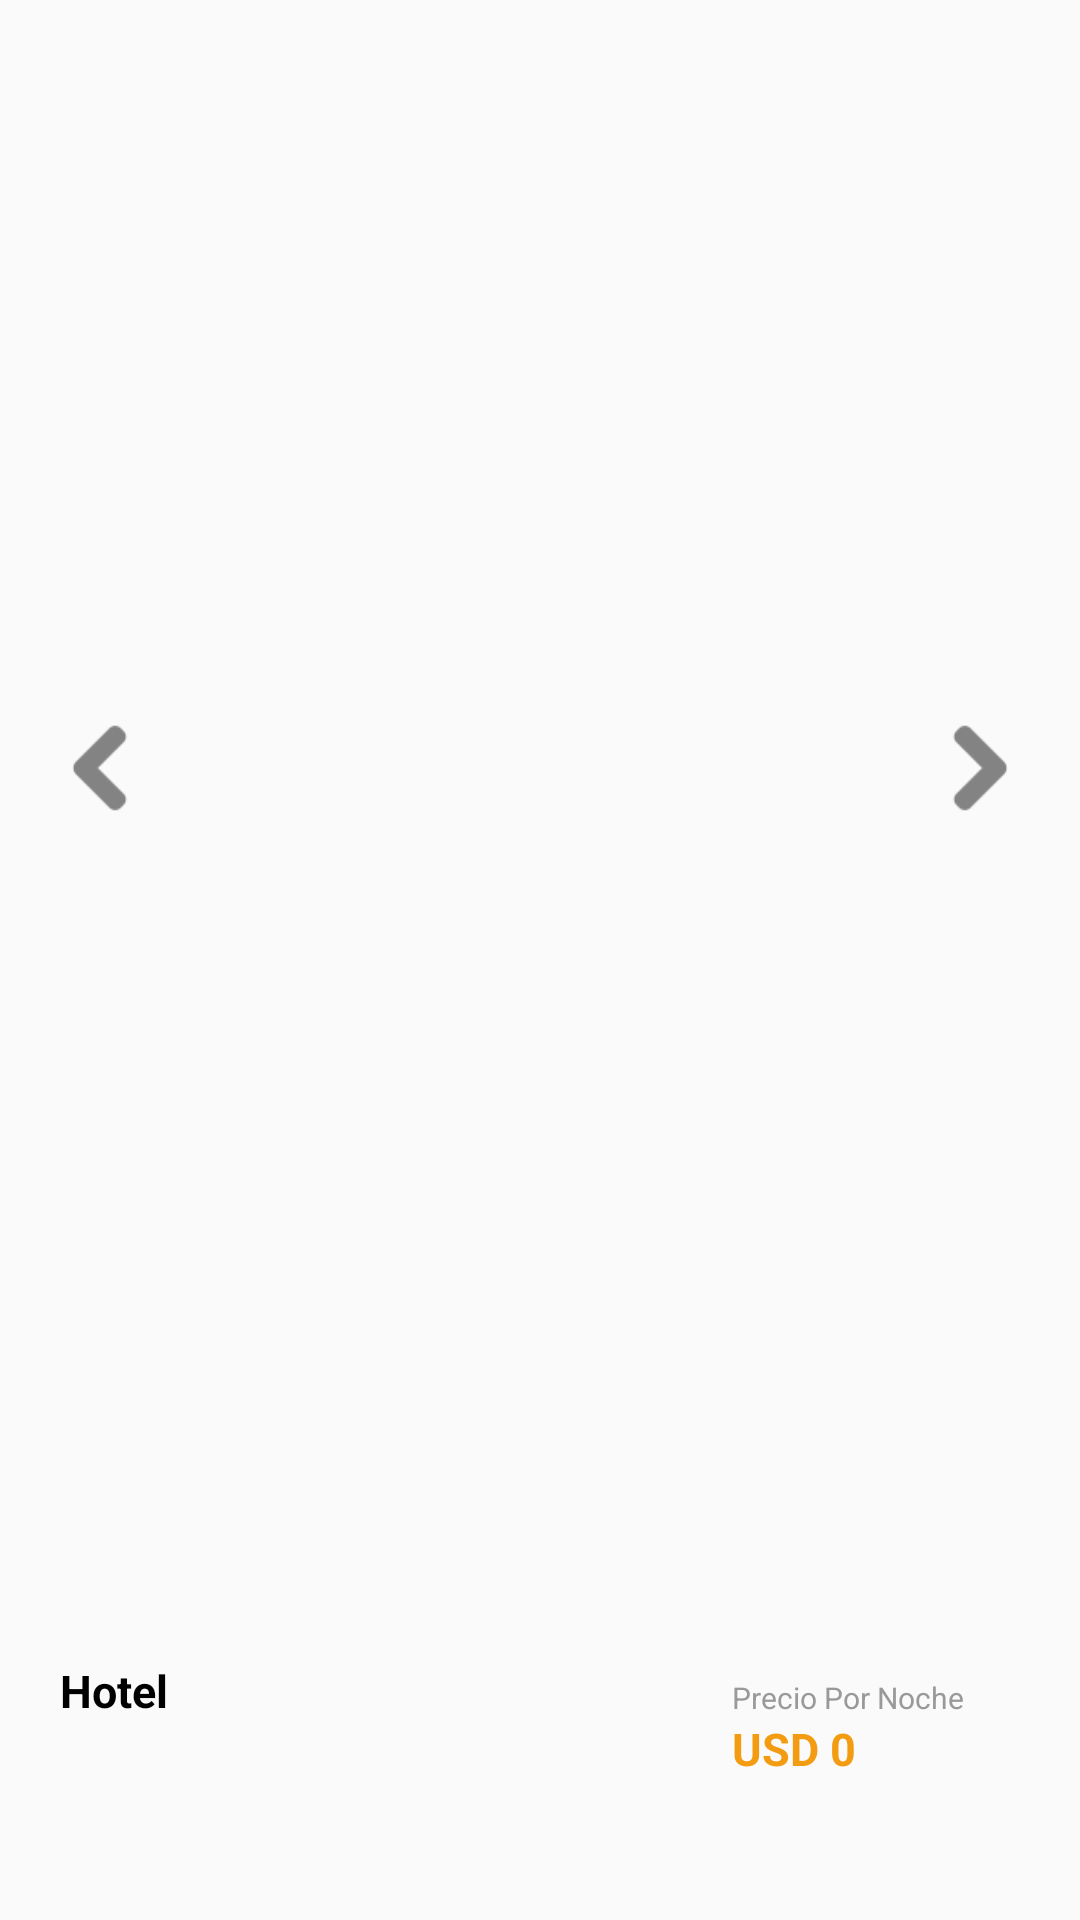

Icons on this 1080px×1920px Android screen, each with the point to tap as (x,y):
arrow left: (100,768)
arrow right: (980,768)
